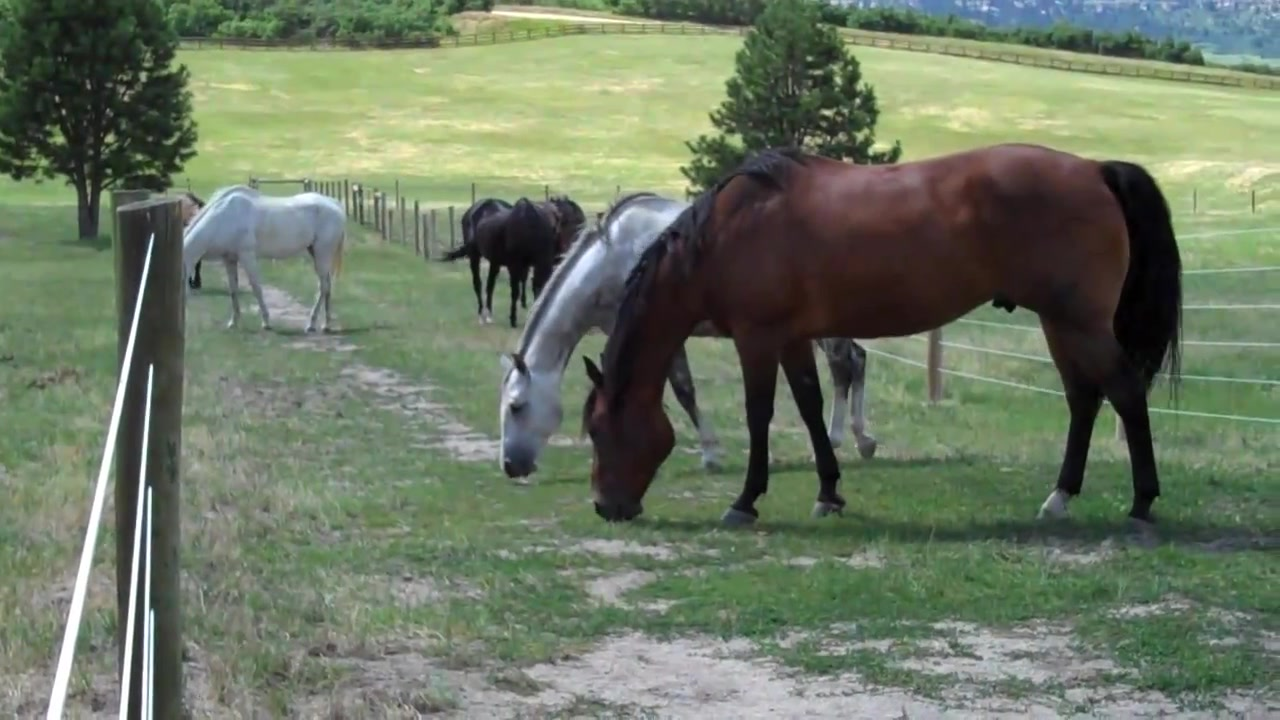horse: (580, 141, 1185, 539), (496, 189, 880, 481), (178, 188, 348, 337), (459, 190, 585, 338), (168, 180, 207, 228)
